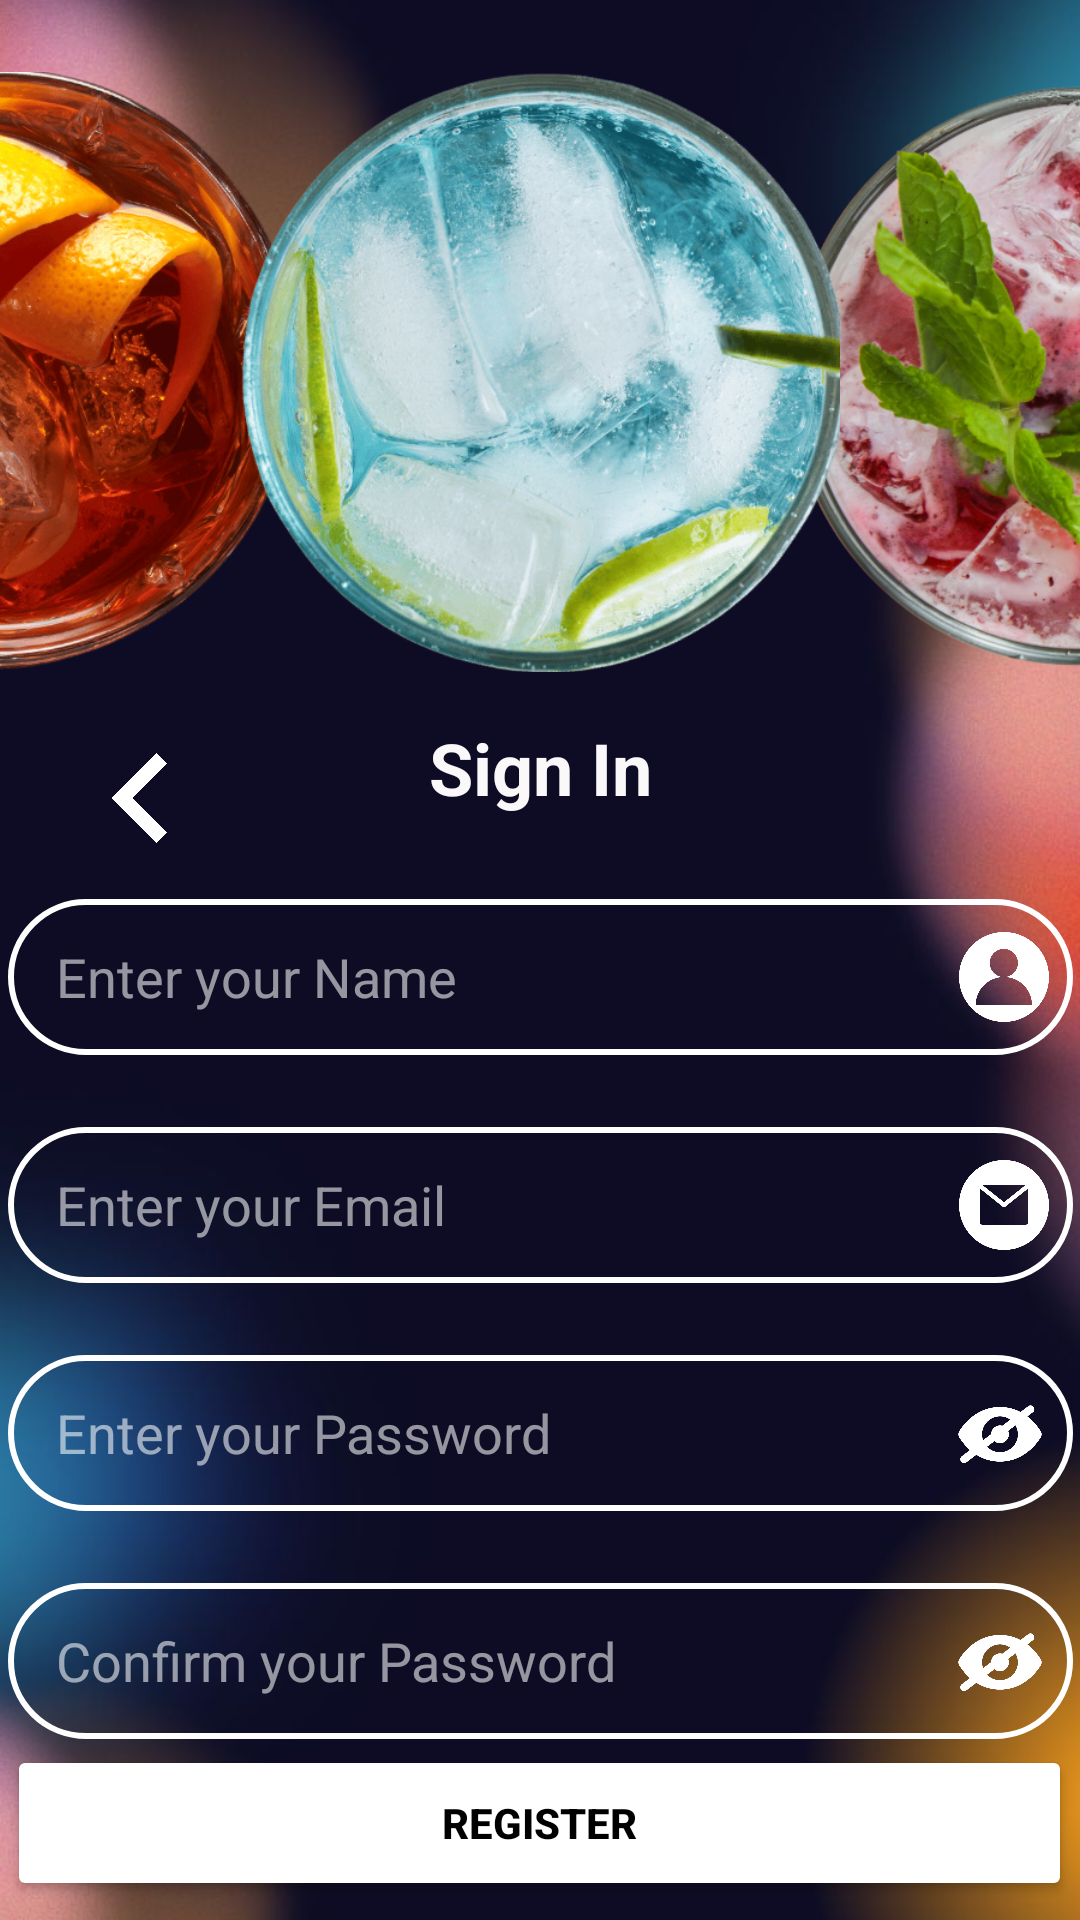

Icons on this 1080*1920 Android screen, each with the point to tap as [x,y]:
back: [139,798]
person: [1004,977]
